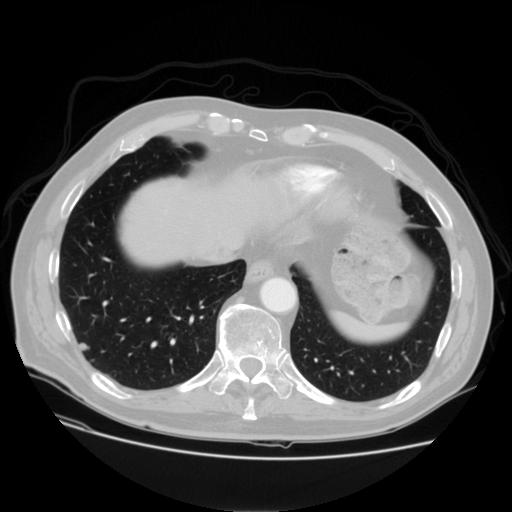nodule: (77, 340, 91, 354)
